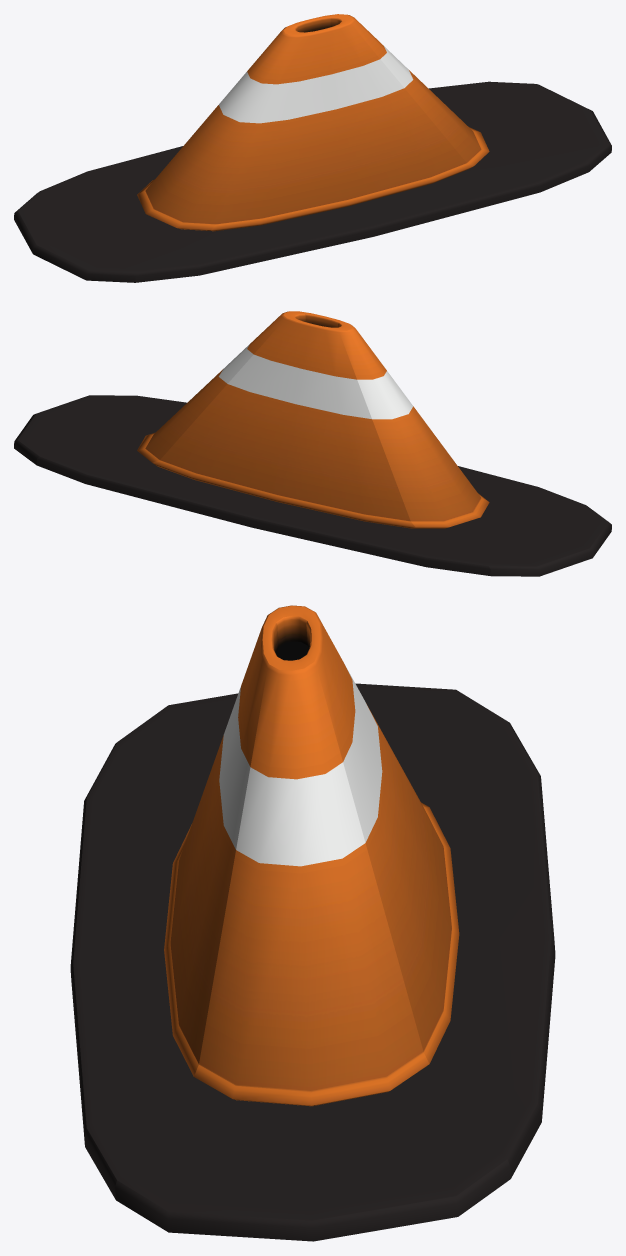
The model's file is constructioncone_lod0.023_lev1.glb.
3 views of the same model, one above another, from view 1: azimuth 30°, elevation 25°; view 2: azimuth 150°, elevation 25°; view 3: azimuth 270°, elevation 25° (orthographic). The views are drawn at different scales.
Visible parts, largest first — view 1: constructioncone_lod0.023_lev1; view 2: constructioncone_lod0.023_lev1; view 3: constructioncone_lod0.023_lev1.
Boxes of the visible parts, box(x1,y1,x2,y2) form: constructioncone_lod0.023_lev1: box(14, 14, 611, 282); constructioncone_lod0.023_lev1: box(14, 311, 611, 576); constructioncone_lod0.023_lev1: box(70, 605, 555, 1241).
Bounding box in the file's own units: 6.32 × 1.86 × 2.37.
Materials: 1 (1 with a texture image).
